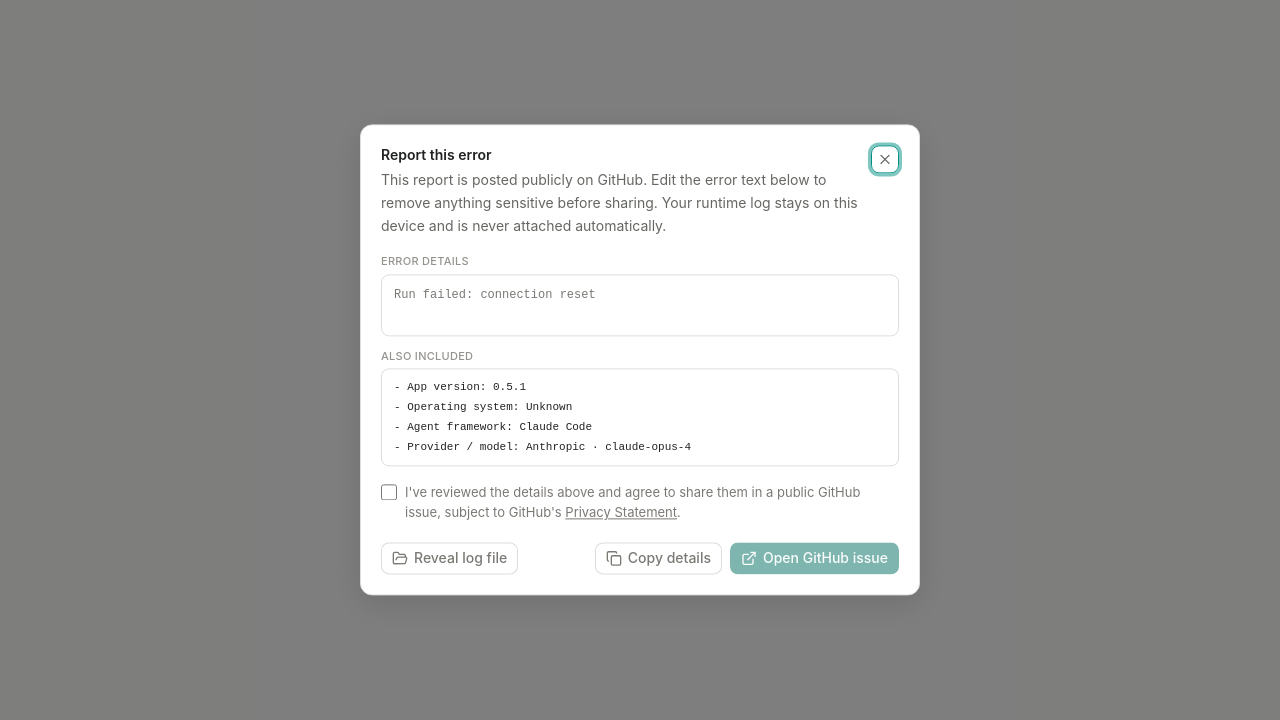
ReportErrorDialog › surfaces an error message when the preload bridge is missing
What coordinates should you click on to do the following:
click the button "Reveal log file"
I would click on:
 (450, 559)
Its box is [381,543,518,575].
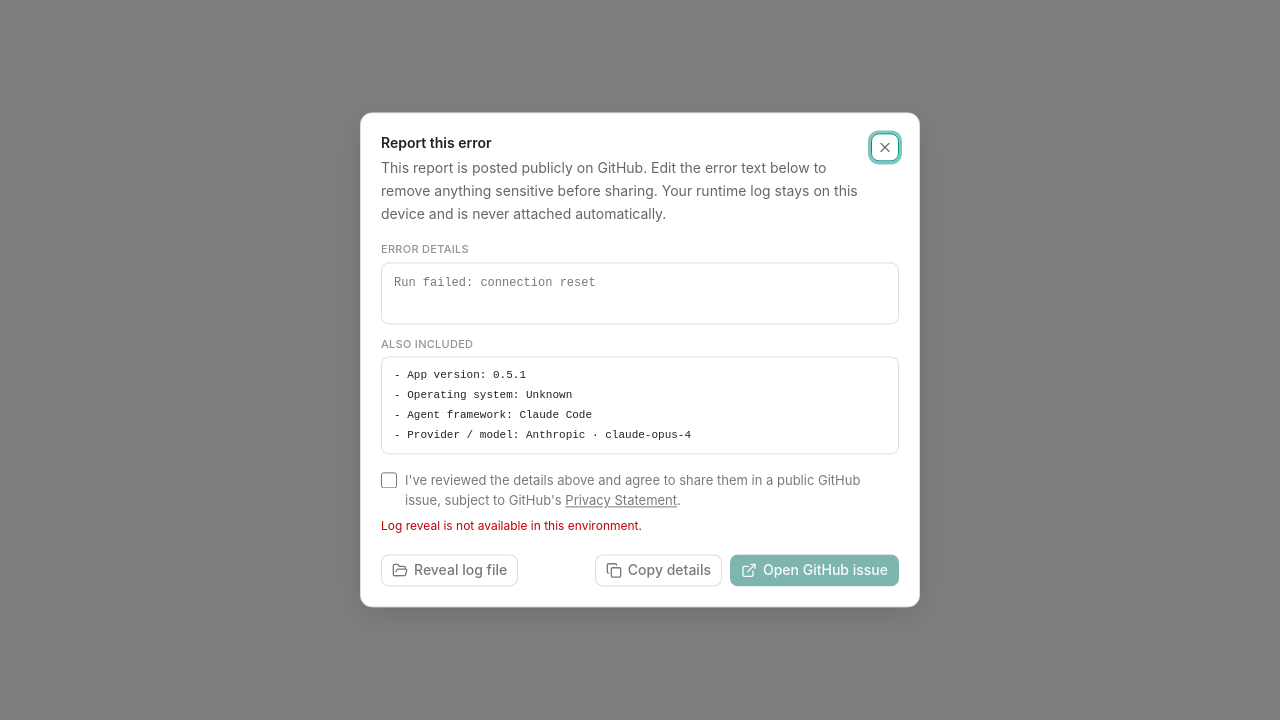
Expected: the message "Log reveal is not available in this environment." is shown, [381,519,642,534]
